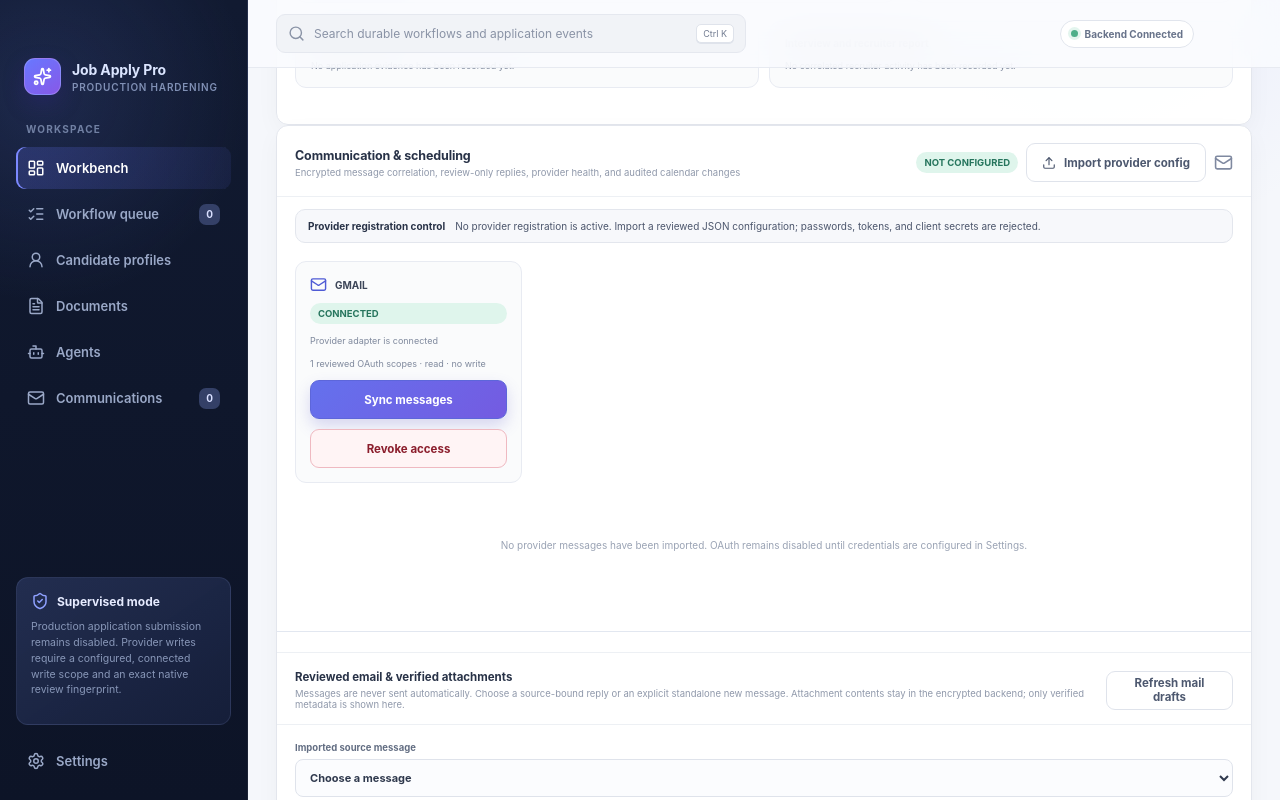
Test: App › syncs connected provider messages and reports bounded counts
(page scrolled)
Click the button "Sync messages": point(408, 400) [310,380,507,419]
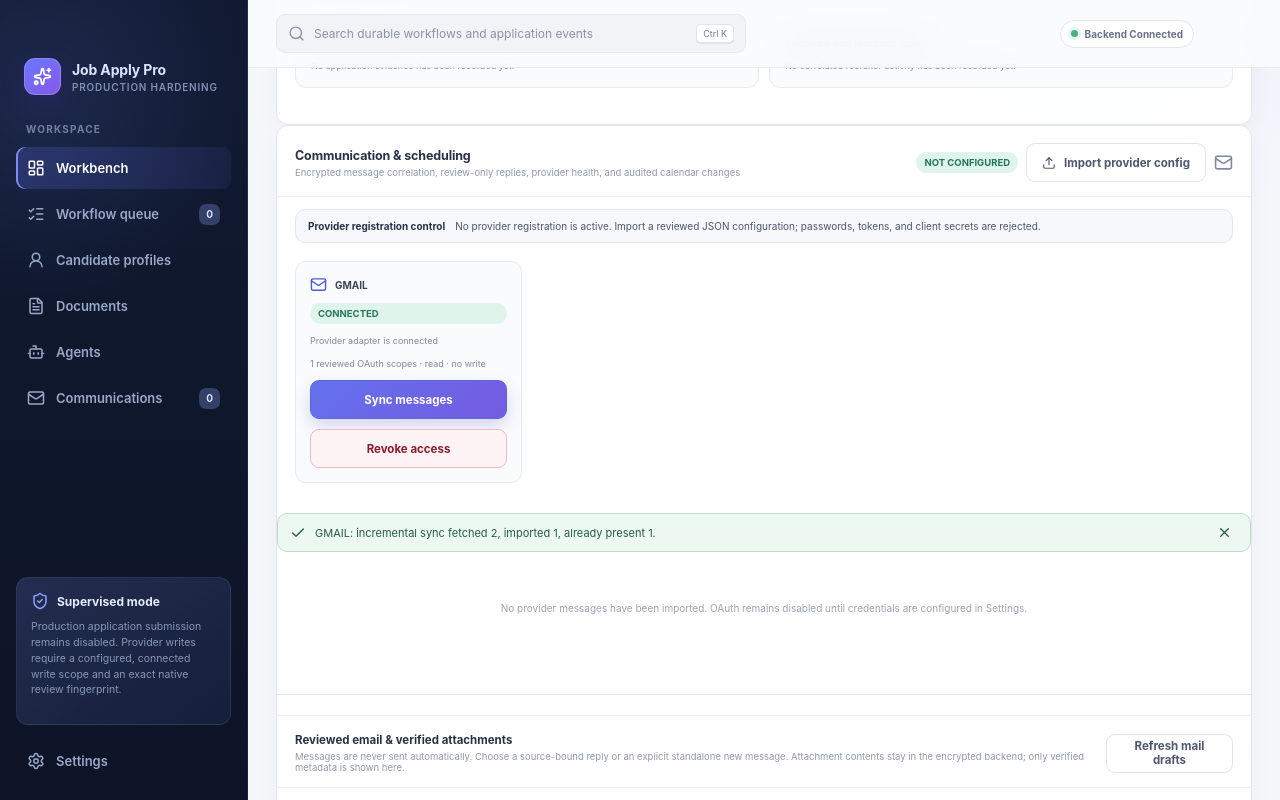
Result: the text "incremental sync fetched 2, imported 1, already present 1" is shown at [315,526,656,540]
